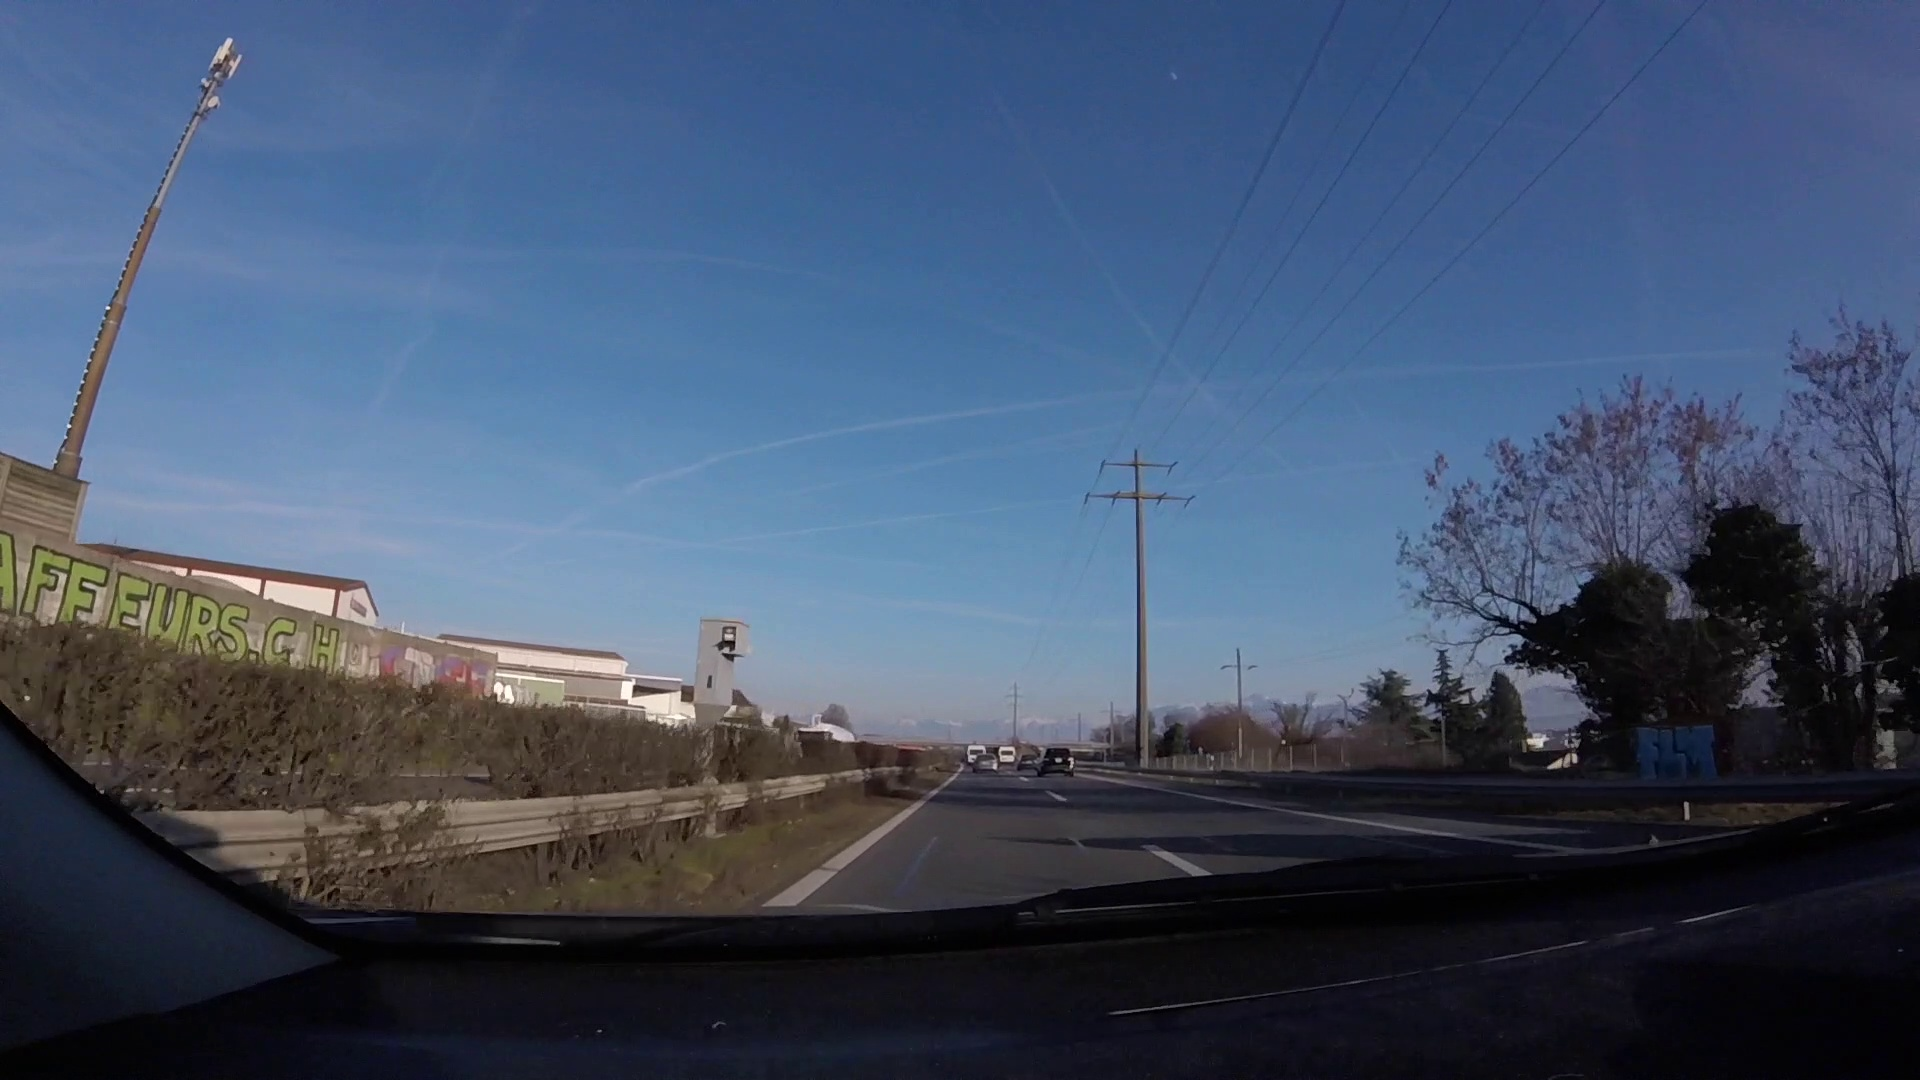radar: (692, 615, 754, 736)
